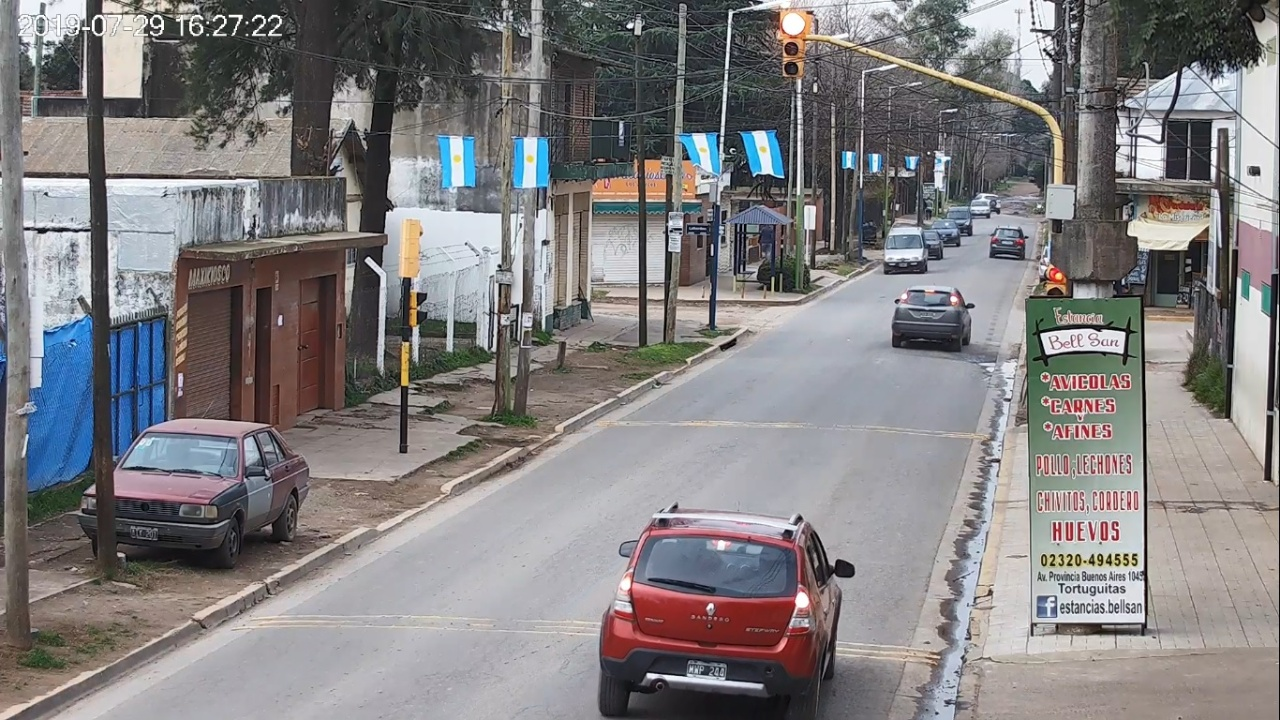car: (599, 501, 855, 720), (892, 286, 975, 351), (989, 226, 1030, 261)
traffic light: (781, 12, 804, 76)
